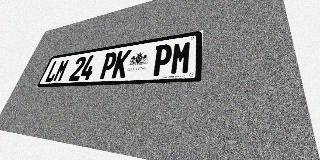2: (68, 56, 87, 81)
4: (79, 54, 98, 80)
K: (111, 49, 132, 78)
L: (44, 60, 62, 82)
M: (170, 40, 192, 75), (52, 59, 70, 82)
P: (151, 43, 173, 76), (98, 51, 118, 79)
